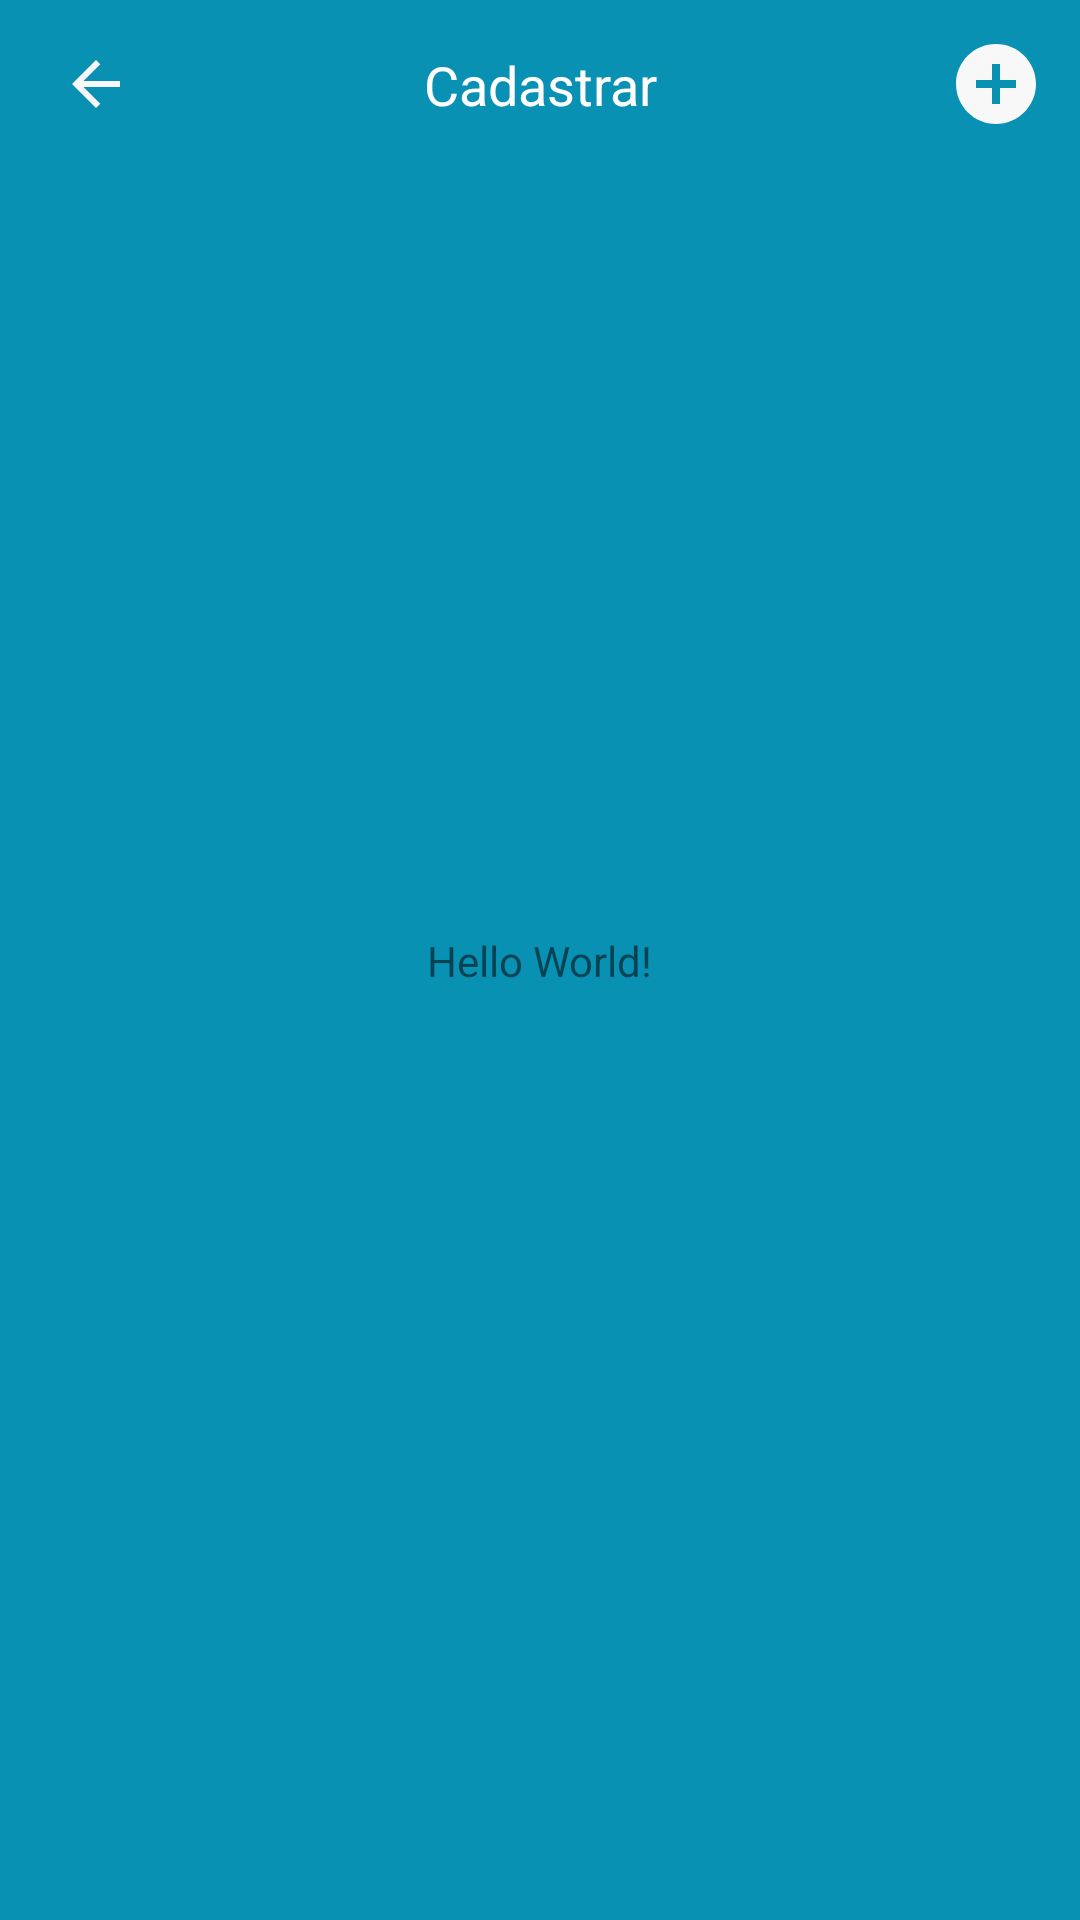

Named icons in this screenshot (1080 × 1920) and their bounding boxes, {"x1": x1, "y1": y1, "x2": x2, "y2": y2}:
add: {"x1": 956, "y1": 44, "x2": 1036, "y2": 124}
goback: {"x1": 72, "y1": 60, "x2": 120, "y2": 108}
